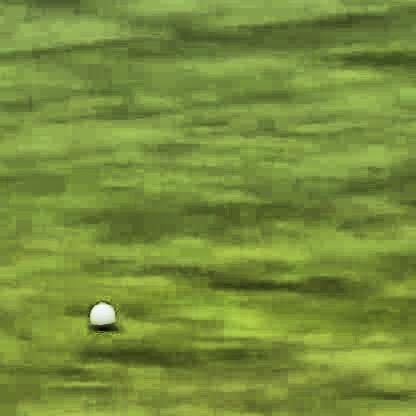golfball: (86, 298, 111, 328)
